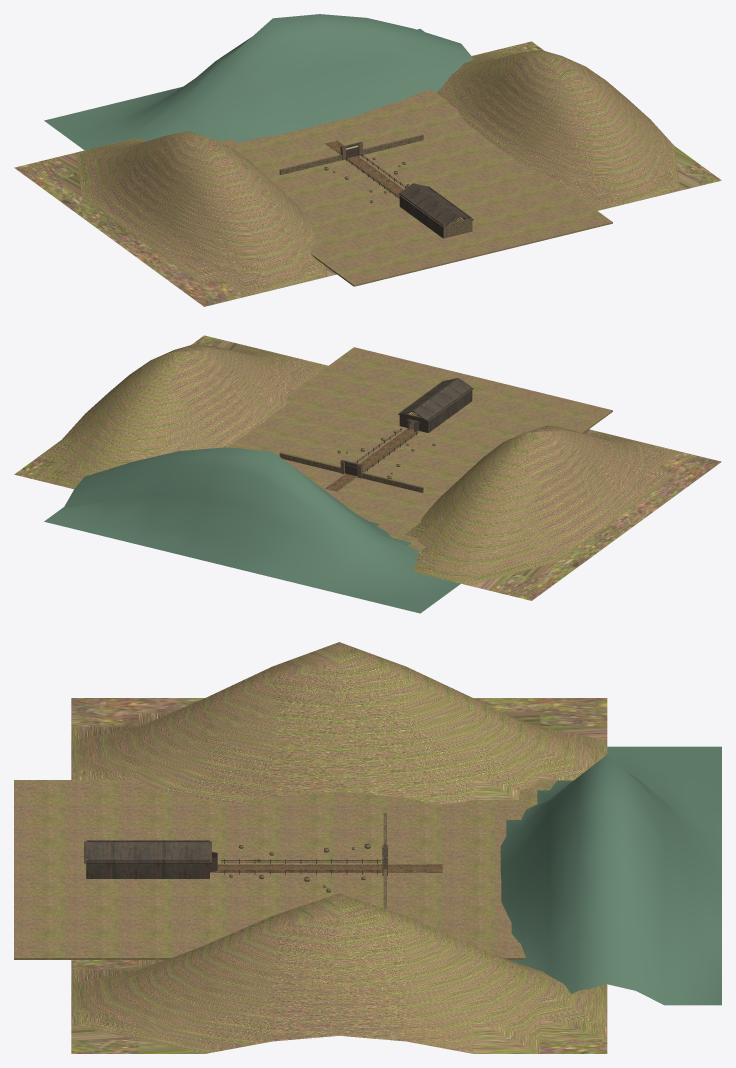
The model's file is finca_world.glb.
The picture shows the model from 3 angles, top to bottom: view 1: azimuth 30°, elevation 25°; view 2: azimuth 150°, elevation 25°; view 3: azimuth 270°, elevation 25°; orthographic projection. The views are drawn at different scales.
Visible parts, largest first — view 1: Terrain_Meadow, Mountain_West, Mountain_North, Mountain_East, Barn_Roof_-1, Barn_Wall_Left, Path_Main; view 2: Mountain_North, Mountain_West, Terrain_Meadow, Mountain_East, Barn_Roof_-1, Path_Main, Barn_Wall_Left; view 3: Terrain_Meadow, Mountain_West, Mountain_East, Mountain_North, Barn_Roof_1, Barn_Wall_Right, Path_Main.
Part boxes in pixels (x1,y1,x2,y2): Terrain_Meadow: (153,89,612,286); Mountain_West: (14,131,336,306); Mountain_North: (44,14,473,150); Mountain_East: (437,41,721,210); Barn_Roof_-1: (398,183,458,227); Barn_Wall_Left: (399,193,443,238); Path_Main: (327,141,402,196); Mountain_North: (44,447,460,613); Mountain_West: (404,425,721,600); Terrain_Meadow: (228,347,612,557); Mountain_East: (14,335,328,489); Barn_Roof_-1: (413,378,473,422); Path_Main: (326,428,417,490); Barn_Wall_Left: (428,388,472,432); Terrain_Meadow: (14,780,573,959); Mountain_West: (71,642,607,804); Mountain_East: (71,893,607,1053); Mountain_North: (500,746,721,1005); Barn_Roof_1: (84,842,211,863); Barn_Wall_Right: (86,859,209,878); Path_Main: (213,865,442,871).
Size of the model in its own units: 220 by 35 by 185.
Materials: 14 (7 with a texture image).
